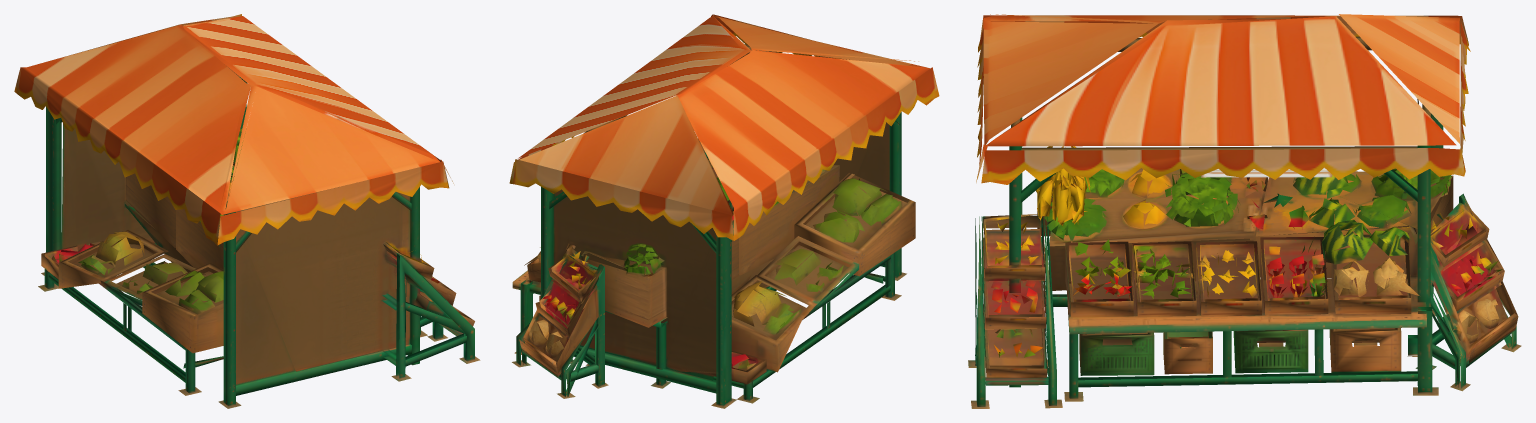
The model's file is tripo_convert_3e715fed-5c56-419f-8676-e533d3cec6ae_lo.glb.
3 renders of one model, left to right at view 1: azimuth 30°, elevation 25°; view 2: azimuth 150°, elevation 25°; view 3: azimuth 270°, elevation 25°, orthographic. The views are drawn at different scales.
Parts seen in each view (by area): view 1: tripo_node_3e715fed-5c56-419f-8676-e533d3cec6ae; view 2: tripo_node_3e715fed-5c56-419f-8676-e533d3cec6ae; view 3: tripo_node_3e715fed-5c56-419f-8676-e533d3cec6ae.
Part boxes in pixels (x1=…): tripo_node_3e715fed-5c56-419f-8676-e533d3cec6ae: x1=14, y1=14, x2=480, y2=408; tripo_node_3e715fed-5c56-419f-8676-e533d3cec6ae: x1=509, y1=14, x2=939, y2=408; tripo_node_3e715fed-5c56-419f-8676-e533d3cec6ae: x1=968, y1=14, x2=1521, y2=408.
Size of the model in its own units: 0.6541 by 0.6255 by 0.9995.
Materials: 1 (1 with a texture image).
